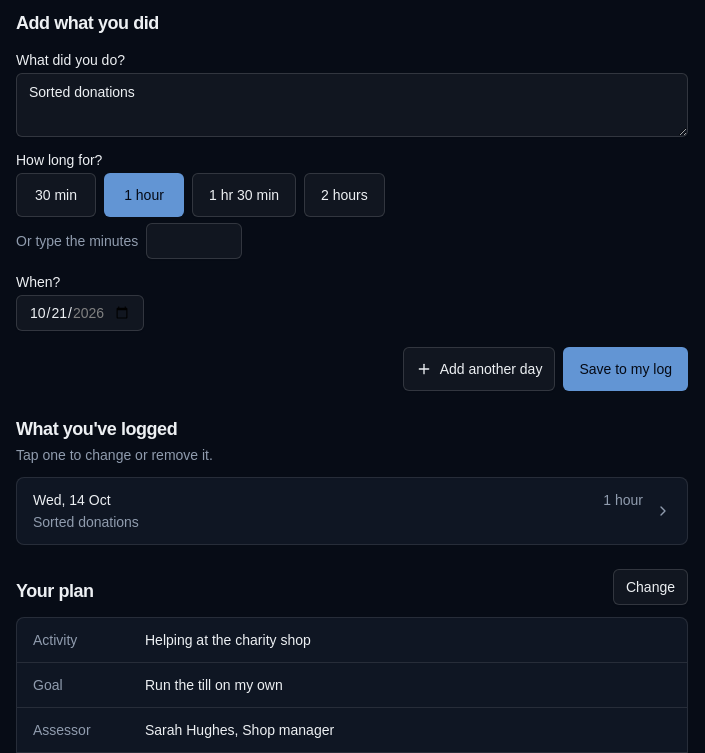
logging a week › a normal week is one tap: last time's words, an hour and today are already filled in
This screenshot has width=705, height=753.
(page scrolled)
Expected: the text box labelled "What did you do?" holds "Sorted donations", [16,73,688,137]
Expected: the button "1 hour" is shown, [104,173,184,217]
Click the button "Save to my log": (626, 369) [563,347,688,391]
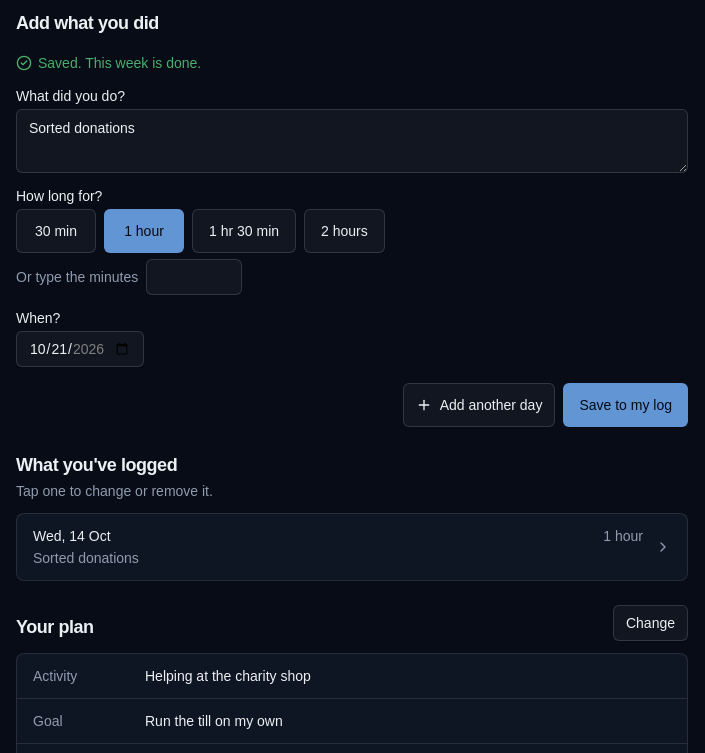
Result: the message reads "Saved. This week is done." at [38,55,201,71]
